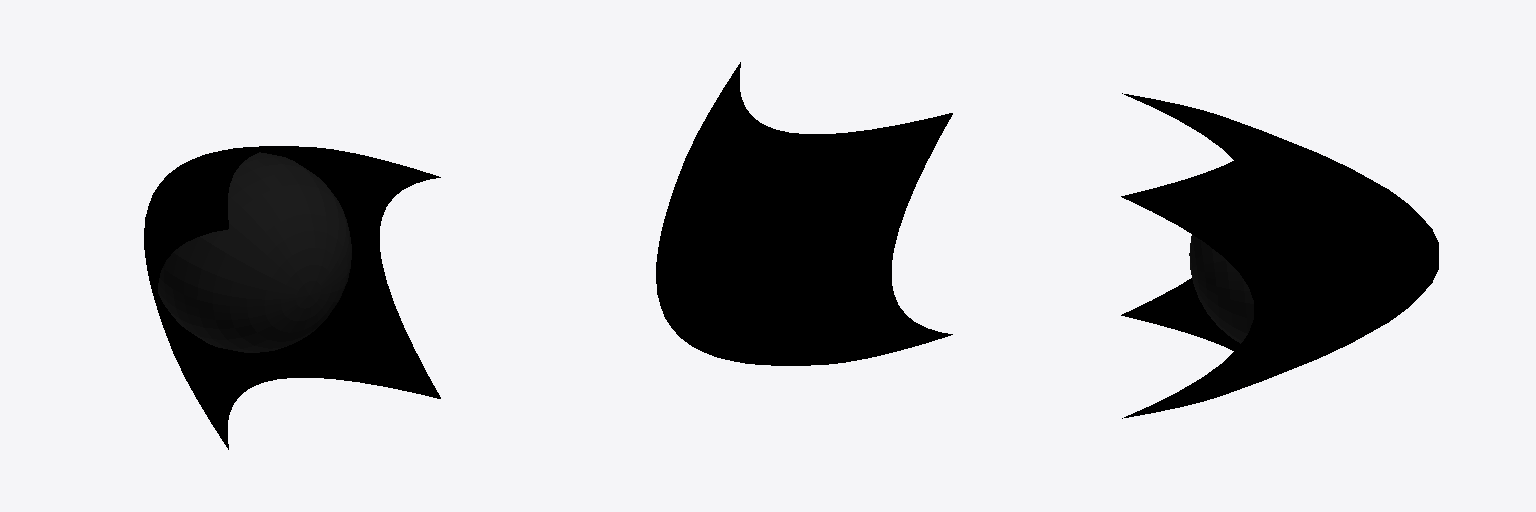
Rendered from surfaceSphere.obj.
The picture shows the model from 3 angles: view 1: azimuth 30°, elevation 25°; view 2: azimuth 150°, elevation 25°; view 3: azimuth 270°, elevation 25°; orthographic projection.
Visible parts, largest first — view 1: SurfPatch, SurfSphere; view 2: SurfPatch; view 3: SurfPatch, SurfSphere.
Part boxes in pixels (left/top/right/bottom): SurfPatch: left=144, top=146, right=440, bottom=449; SurfSphere: left=158, top=152, right=351, bottom=352; SurfPatch: left=656, top=62, right=952, bottom=365; SurfPatch: left=1121, top=93, right=1438, bottom=418; SurfSphere: left=1189, top=235, right=1253, bottom=343.
Size of the model in its own units: 2.53 by 2.53 by 3.15.